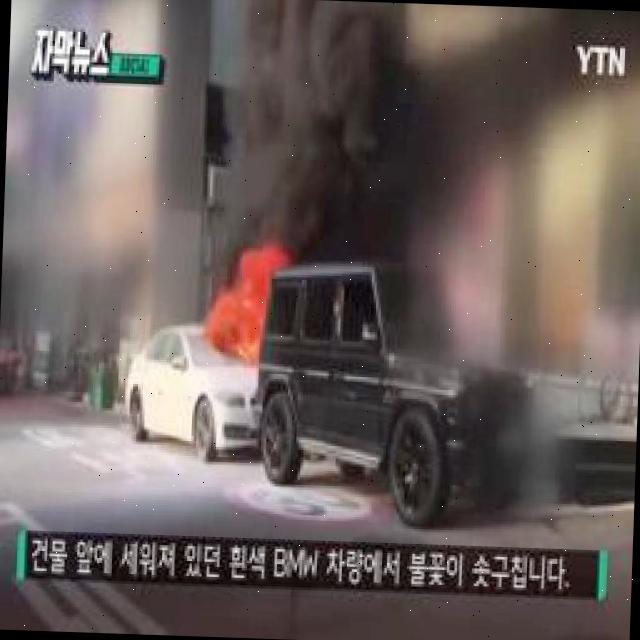fire: (221, 240, 291, 354)
